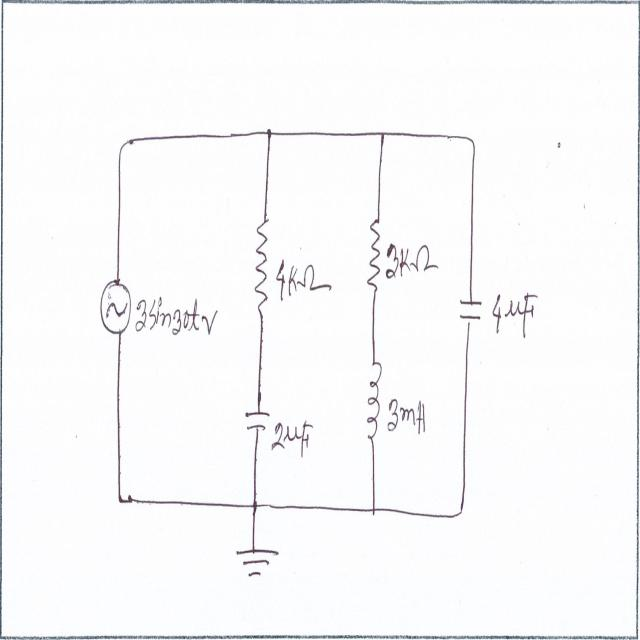ac_current: (97, 280, 133, 336)
capacitor: (243, 406, 272, 436), (458, 295, 483, 329)
ground: (233, 545, 285, 579)
inductor: (364, 360, 381, 444)
resistor: (251, 216, 271, 312), (367, 218, 382, 296)
